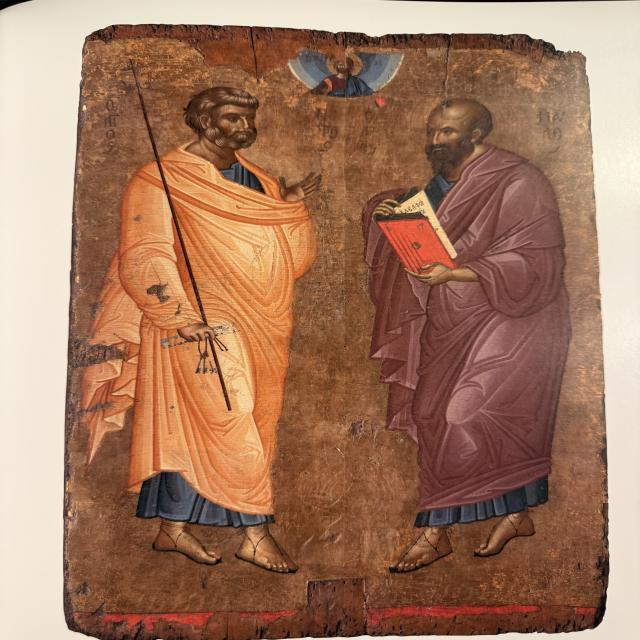book: (368, 186, 474, 280)
christ_pantocrator: (289, 47, 411, 109)
saint: (373, 97, 594, 585), (104, 85, 320, 579)
scepter: (116, 55, 248, 415)
